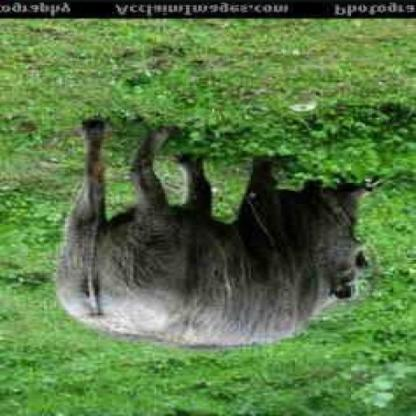boar: (63, 132, 412, 354)
